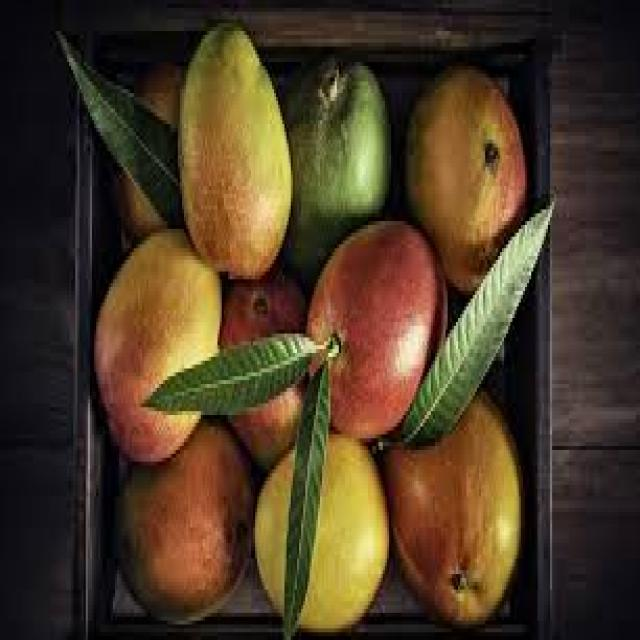mango: (305, 221, 448, 438)
